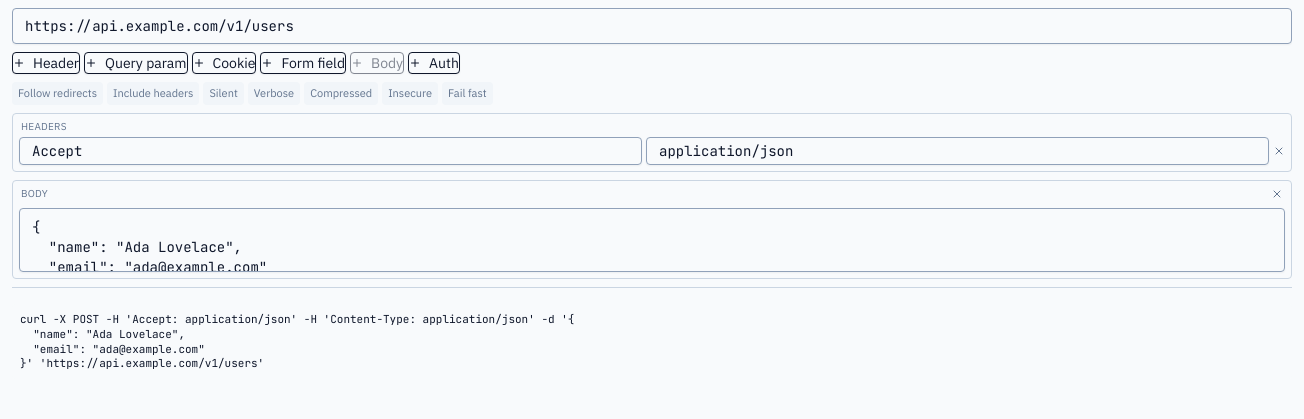
CurlBuilderWidget › adds a header block and reflects it in the command as soon as it is filled in
This screenshot has width=1304, height=419.
Click the button "Header" at (46, 63), box [12, 52, 80, 74]
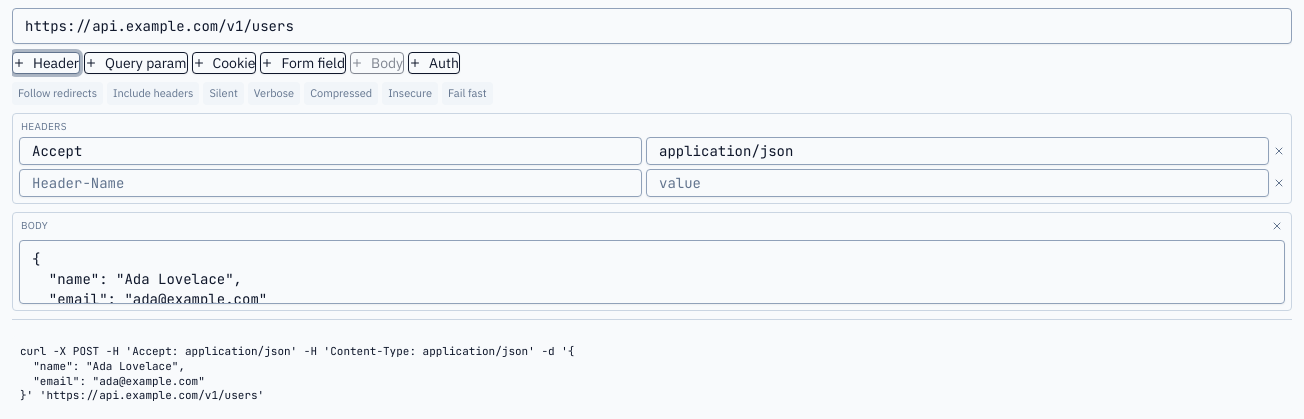
Type "X-Trace-Id" into the field named "Header 2 name" at (330, 183), box [19, 169, 642, 197]
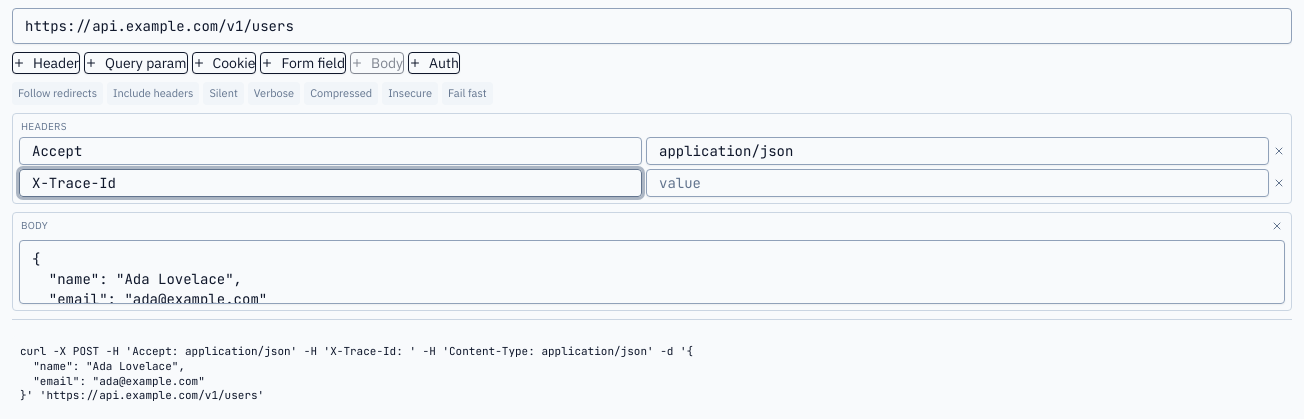
Type "abc123" into the field named "Header 2 value" at (958, 183), box [646, 169, 1269, 197]
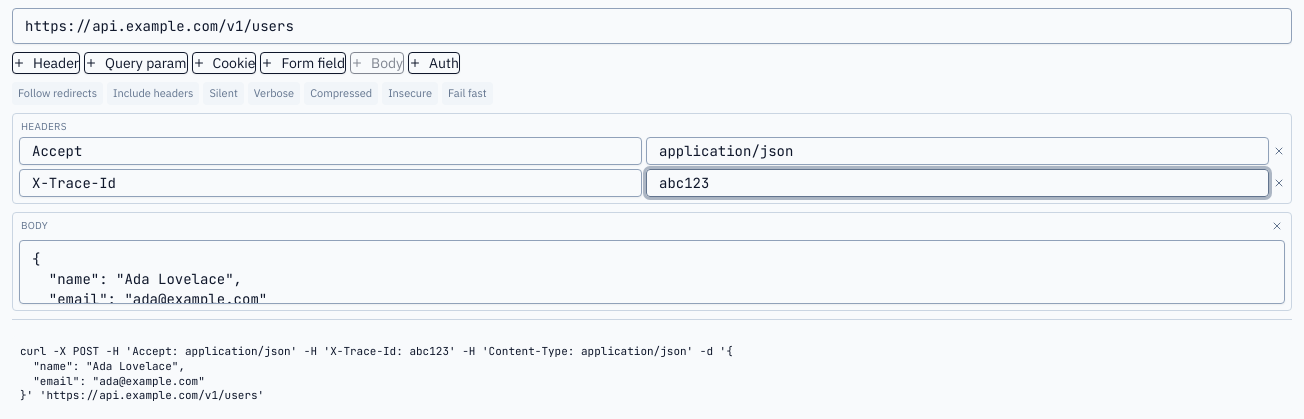
Check: the text "curl " shows "-H 'X-Trace-Id: abc123'", box [20, 344, 733, 402]
